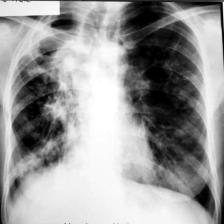tuberculosis: (2, 0, 220, 223)
